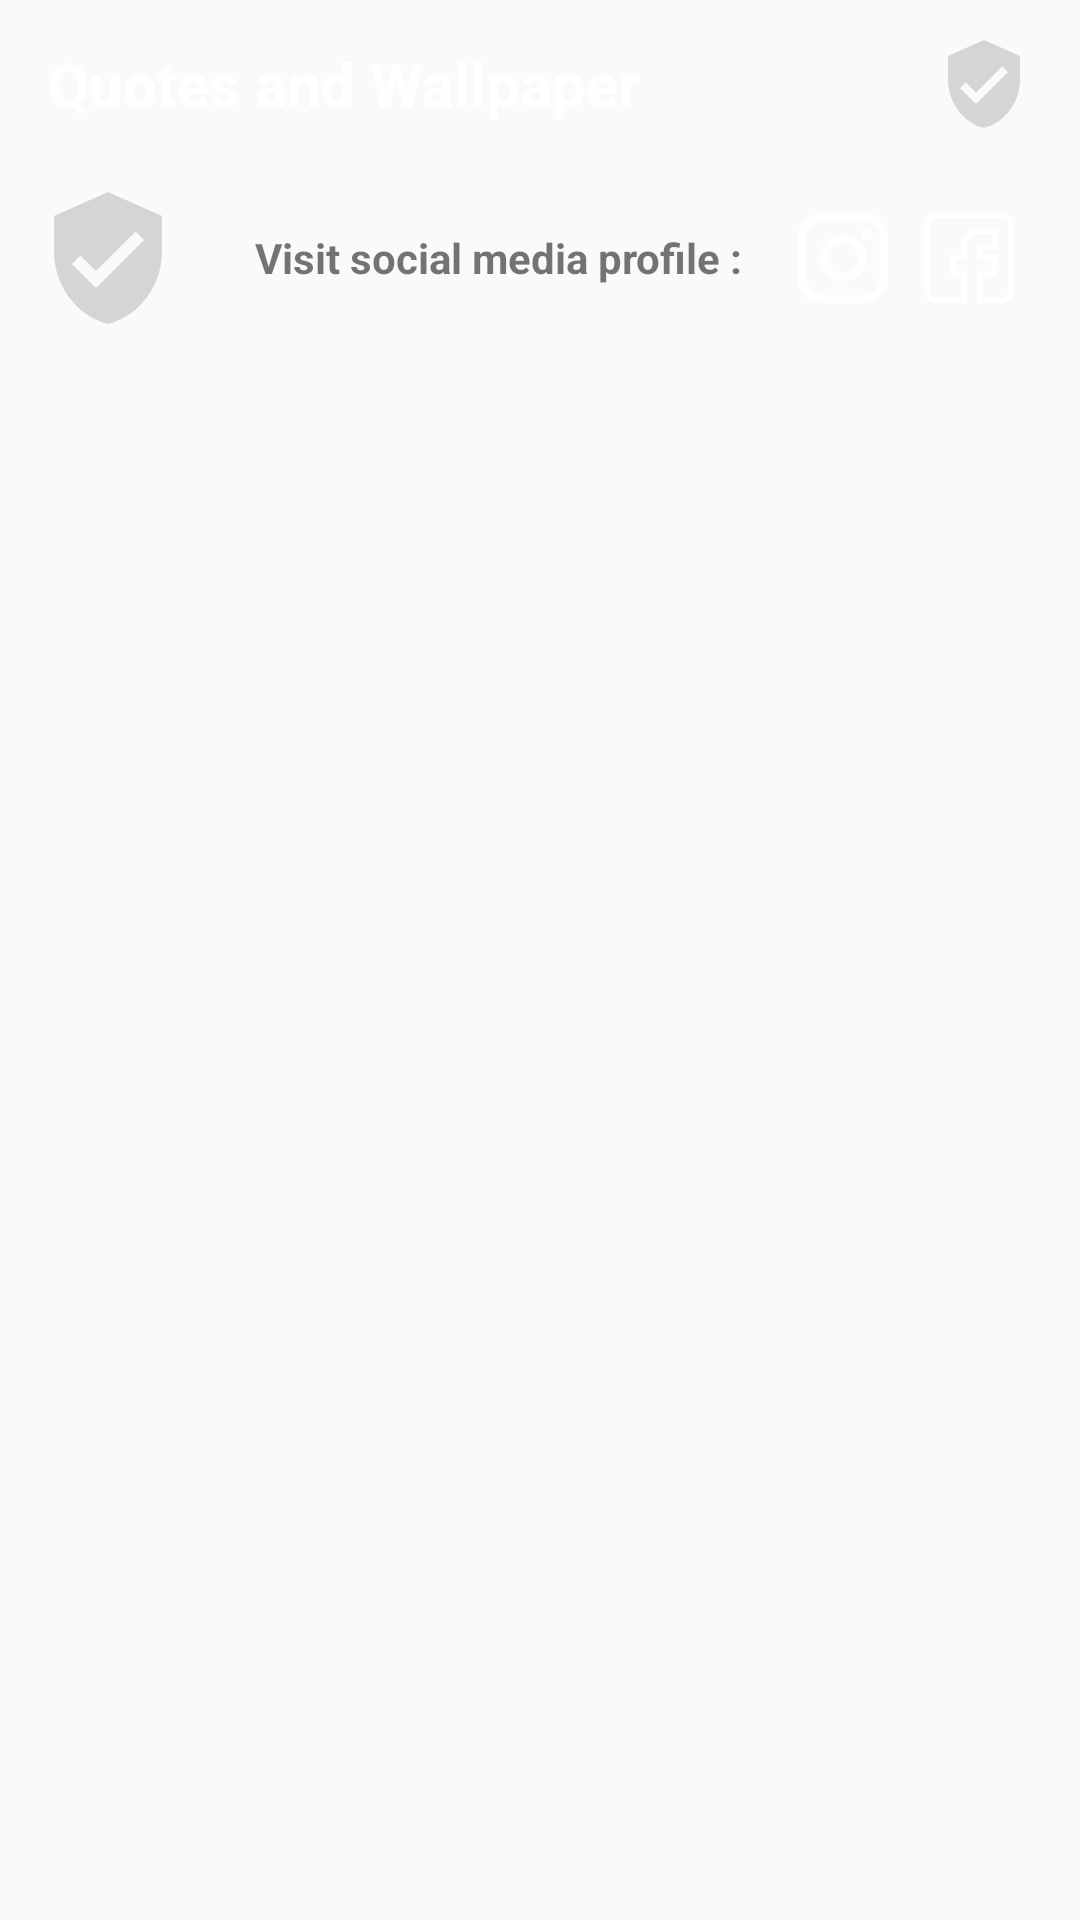

Icon bounding boxes for this 1080 × 1920 phone screenshot, format (x1, y1, x2, y2):
verified user: (948, 40, 1020, 128), (54, 192, 162, 324)
